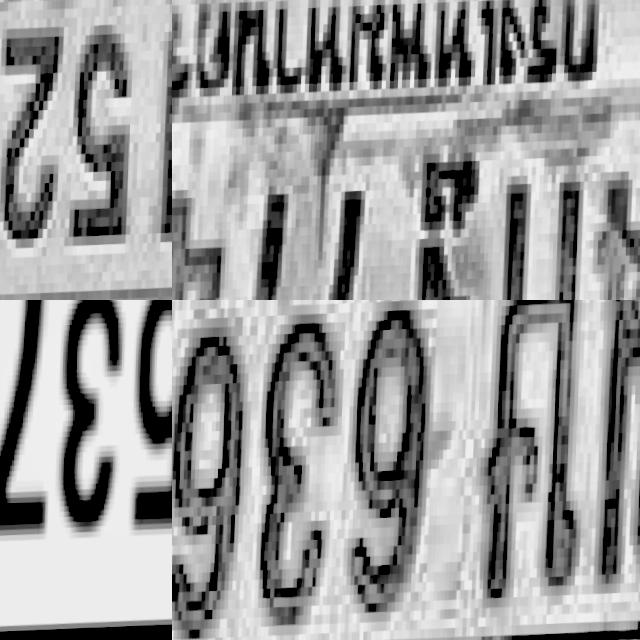license-plate: (172, 300, 640, 640), (172, 0, 640, 300), (0, 300, 172, 640), (0, 0, 172, 300)
